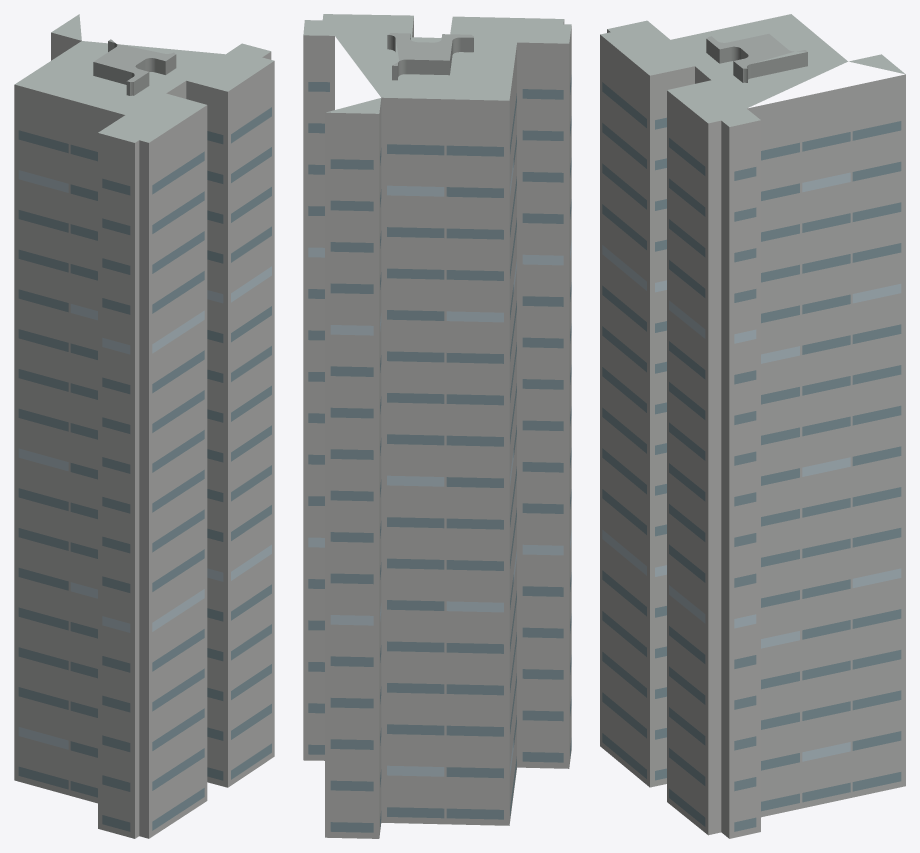
File: fallback-acro-riverpark-103.glb
3 renders of one model, left to right at view 1: azimuth 30°, elevation 25°; view 2: azimuth 150°, elevation 25°; view 3: azimuth 270°, elevation 25°, orthographic. The views are drawn at different scales.
Visible parts, largest first — view 1: fallback-acro-riverpark-103; view 2: fallback-acro-riverpark-103; view 3: fallback-acro-riverpark-103.
Part boxes in pixels (x1,y1,x2,y2): fallback-acro-riverpark-103: (14, 14, 274, 838); fallback-acro-riverpark-103: (303, 14, 571, 838); fallback-acro-riverpark-103: (600, 14, 905, 838).
Bounding box in the file's own units: 40.78 × 122 × 46.57.
